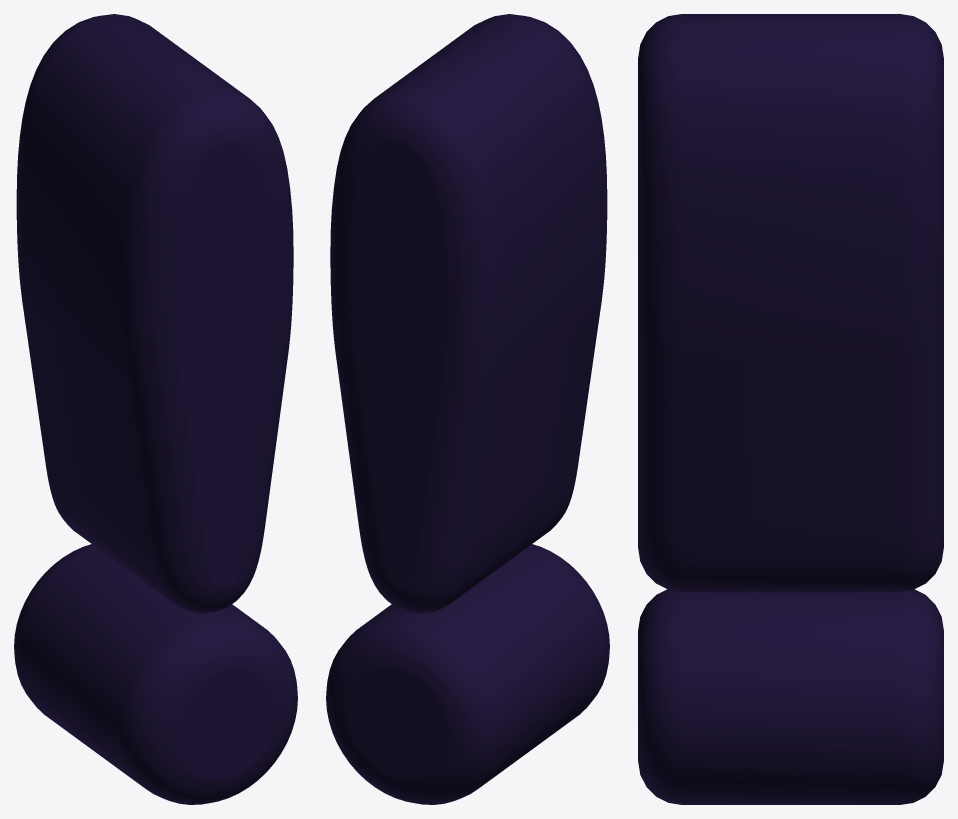
File: exclamation.glb
3 renders of one model, left to right at view 1: azimuth 30°, elevation 25°; view 2: azimuth 150°, elevation 25°; view 3: azimuth 270°, elevation 25°, orthographic. The views are drawn at different scales.
Visible parts, largest first — view 1: exclamation; view 2: exclamation; view 3: exclamation.
Part boxes in pixels (x1,y1,x2,y2): exclamation: [14, 14, 297, 804]; exclamation: [326, 14, 609, 804]; exclamation: [638, 14, 943, 804].
Bounding box in the file's own units: 0.2002 × 0.7803 × 0.28.
